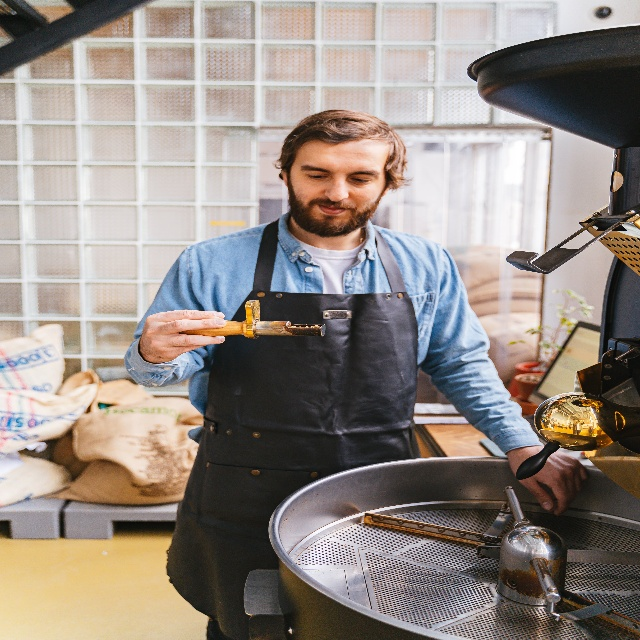Sin_guantes: (509, 446, 589, 515), (144, 309, 230, 364)
